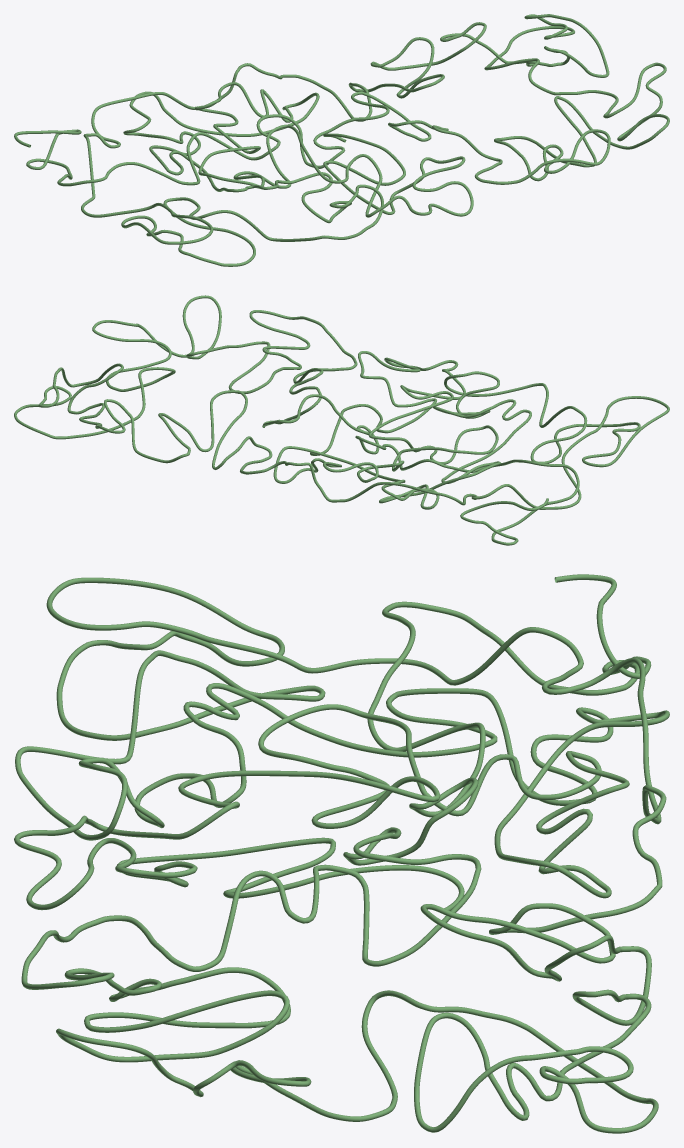
3 renders of one model, top to bottom at view 1: azimuth 30°, elevation 25°; view 2: azimuth 150°, elevation 25°; view 3: azimuth 270°, elevation 25°, orthographic. The views are drawn at different scales.
Parts seen in each view (by area): view 1: T1_1; view 2: T1_1; view 3: T1_1.
Boxes of the visible parts, left/top/right/bottom form: T1_1: left=14, top=14, right=669, bottom=266; T1_1: left=14, top=295, right=669, bottom=545; T1_1: left=14, top=574, right=669, bottom=1133.
Bounding box in the file's own units: 421 × 32.08 × 231.
